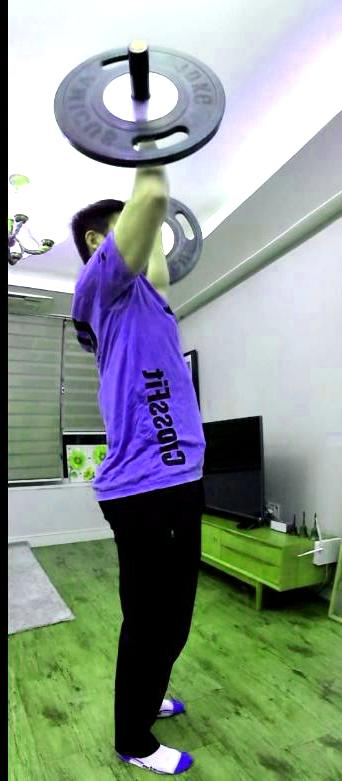Barbell: (122, 40, 148, 59)
